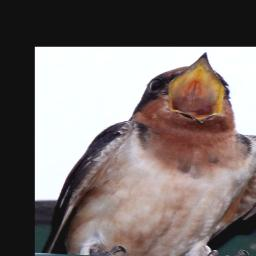Swallow: (44, 52, 256, 256)
